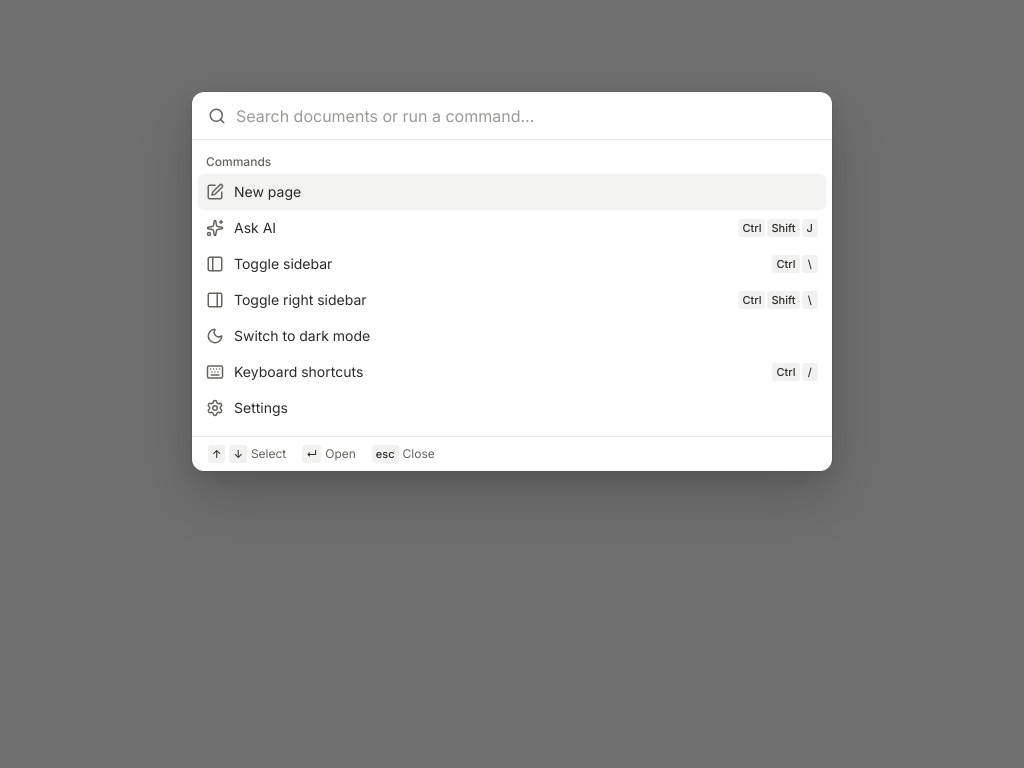
Test: CommandPalette › searches headings, documents and the sidebar once something is typed
Type "related" into the dropdown at (526, 116), box [236,104,816,128]
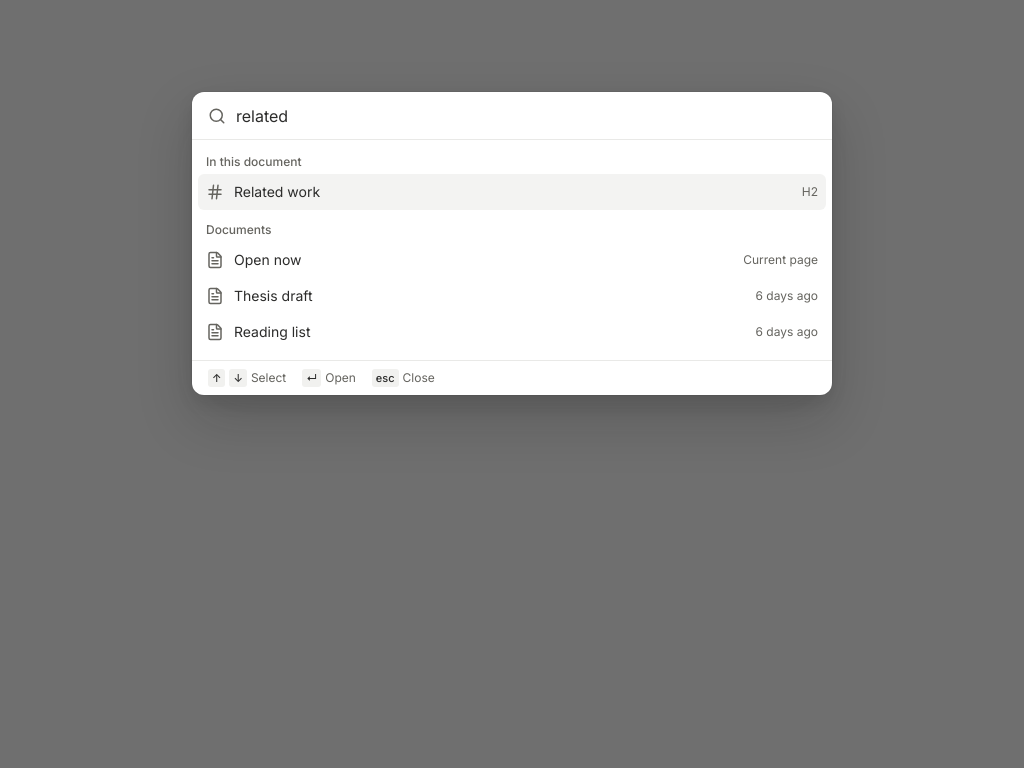
Now the element "In this document" is shown, box [198,146,826,214]
